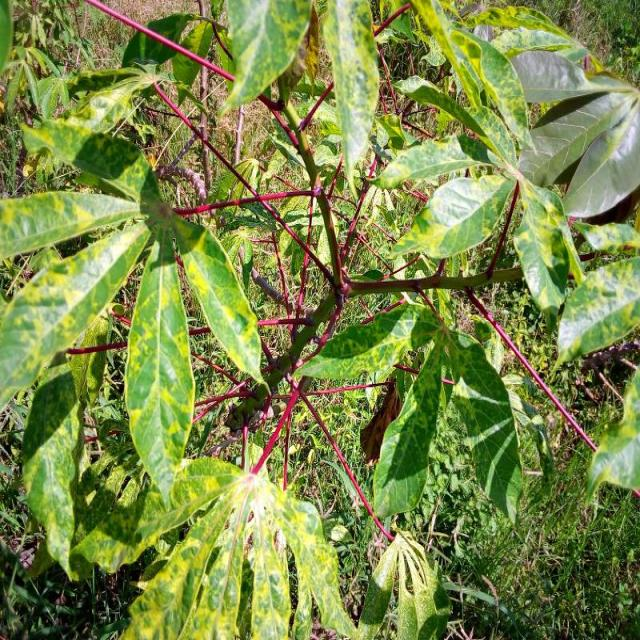cassava leaf: (2, 0, 640, 637), (2, 115, 266, 505), (125, 232, 197, 506)
